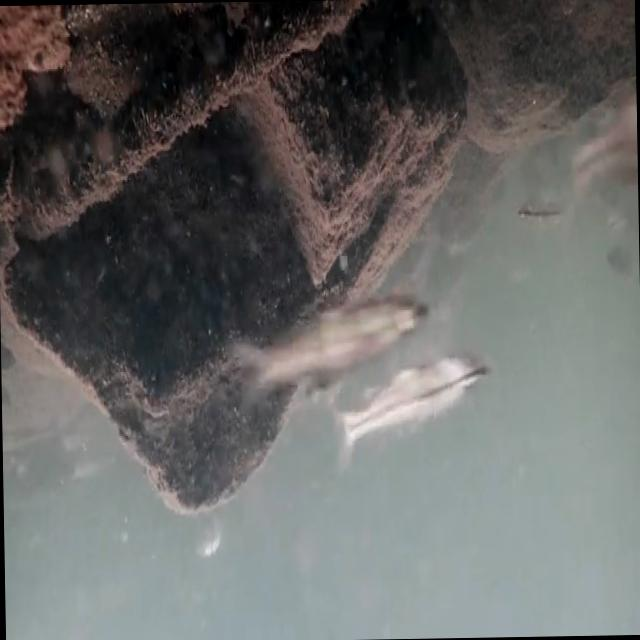Cakil Baligi: (318, 349, 488, 475)
